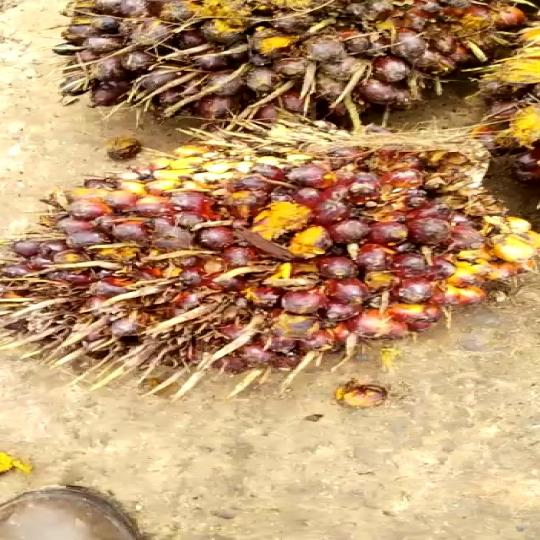masak: (0, 128, 540, 374), (32, 0, 521, 122)
